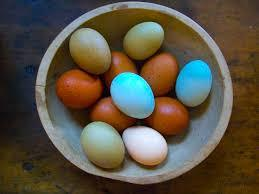egg: (106, 71, 157, 120), (69, 24, 113, 74), (81, 121, 125, 170), (126, 123, 170, 172), (56, 68, 102, 110)
